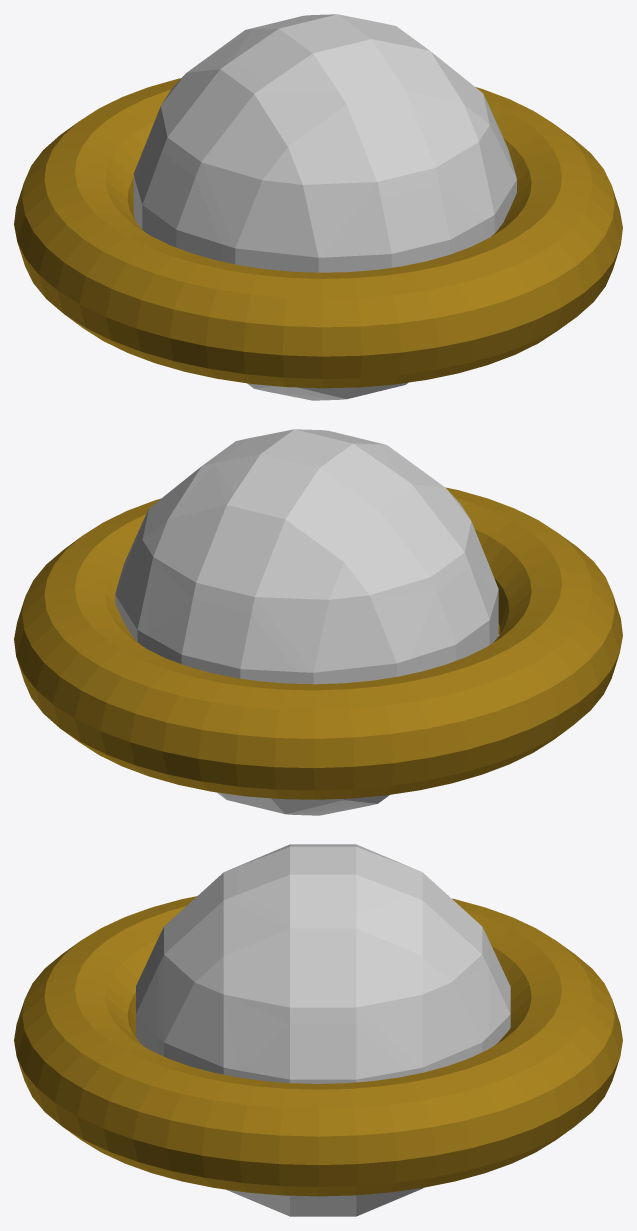
File: saturno.obj
3 renders of one model, top to bottom at view 1: azimuth 30°, elevation 25°; view 2: azimuth 150°, elevation 25°; view 3: azimuth 270°, elevation 25°, orthographic. The views are drawn at different scales.
Visible parts, largest first — view 1: Torus, Mball_Meta; view 2: Torus, Mball_Meta; view 3: Torus, Mball_Meta.
Boxes of the visible parts, left/top/right/bottom form: Torus: left=14, top=78, right=622, bottom=388; Mball_Meta: left=133, top=14, right=516, bottom=400; Torus: left=14, top=487, right=622, bottom=799; Mball_Meta: left=115, top=429, right=498, bottom=815; Torus: left=14, top=896, right=622, bottom=1196; Mball_Meta: left=136, top=844, right=510, bottom=1216.
Size of the model in its own units: 5.2 by 3.29 by 5.36.
